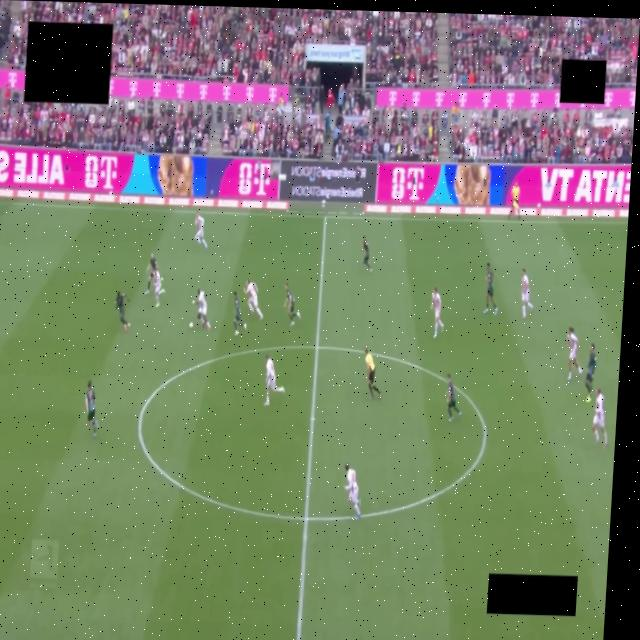ball: (189, 322, 194, 329)
player: (263, 355, 283, 406), (344, 463, 360, 518), (592, 388, 606, 447), (567, 327, 581, 380), (84, 380, 97, 437), (283, 283, 300, 326), (483, 263, 497, 314), (584, 343, 596, 402), (244, 280, 262, 319), (446, 374, 460, 421), (521, 269, 533, 319), (431, 287, 443, 337), (115, 291, 129, 331), (197, 288, 210, 330), (233, 291, 245, 335), (145, 253, 157, 294), (152, 269, 164, 307), (194, 214, 207, 249), (362, 235, 371, 272)
referee: (364, 348, 380, 399)
